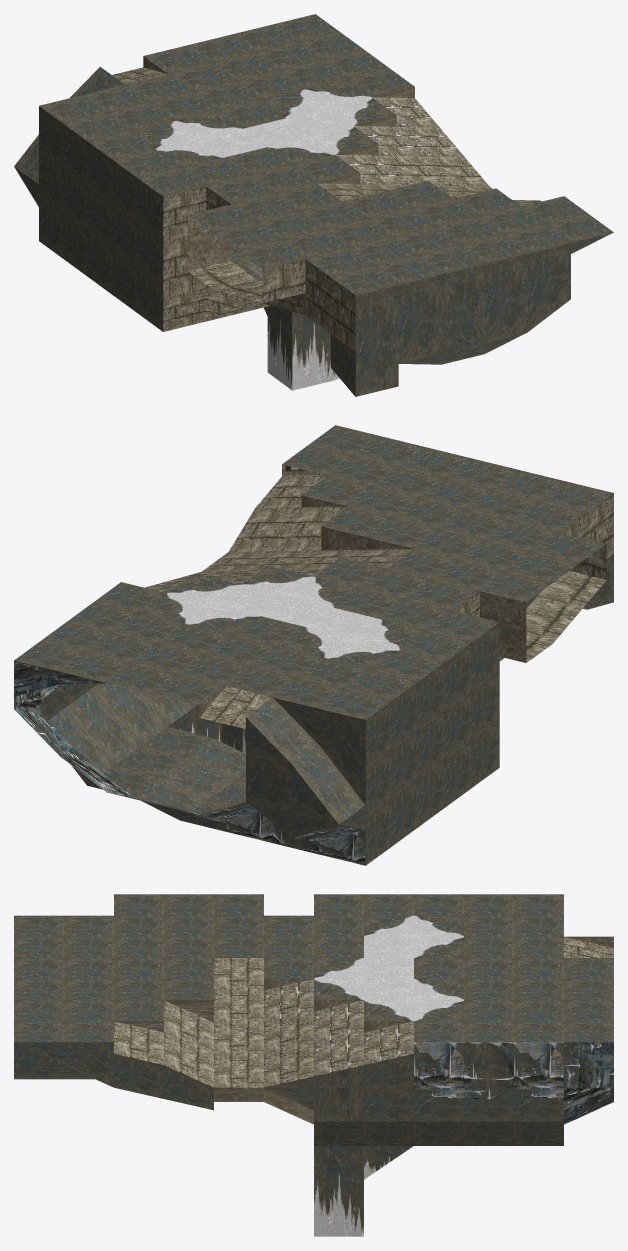
Rendered from room01.obj.
The picture shows the model from 3 angles, top to bottom: view 1: azimuth 30°, elevation 25°; view 2: azimuth 150°, elevation 25°; view 3: azimuth 270°, elevation 25°; orthographic projection. The views are drawn at different scales.
Visible parts, largest first — view 1: 01-Caves.001; view 2: 01-Caves.001; view 3: 01-Caves.001.
Boxes of the visible parts, x1,y1,x2,y2 form: 01-Caves.001: (14, 14, 613, 396); 01-Caves.001: (14, 425, 613, 865); 01-Caves.001: (14, 894, 613, 1236).
Size of the model in its own units: 70 by 50 by 120.
Materials: 1 (1 with a texture image).
